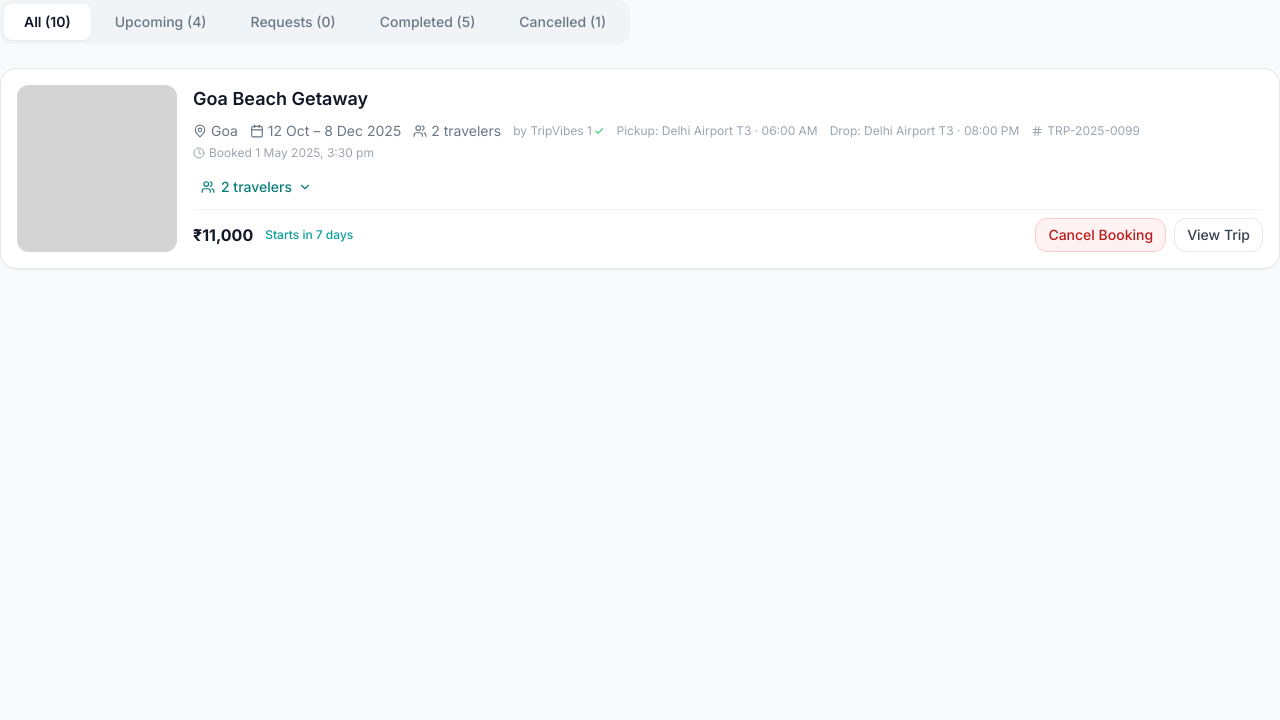
Test: MyBookingsList › should open cancel modal when cancel button is clicked
The image size is (1280, 720).
What coordinates should you click on to do the following:
click the button "Cancel Booking"
I would click on:
 (1101, 235)
Its box is [1035,218,1166,252].
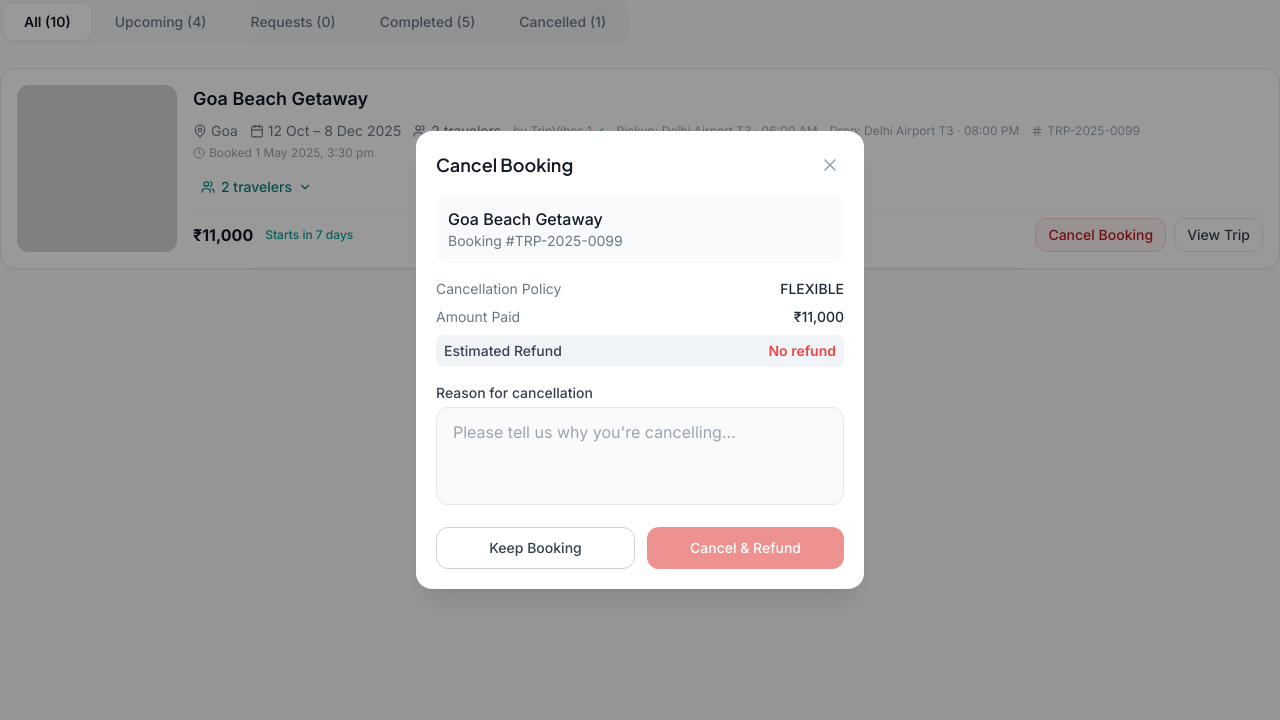
Check: the element "Cancel Booking" is shown, box [416,131,864,589]
Check: the text "Booking #TRP-2025-0099" is shown, box [448,232,623,249]
Check: the text "FLEXIBLE" is shown, box [780,279,844,299]
